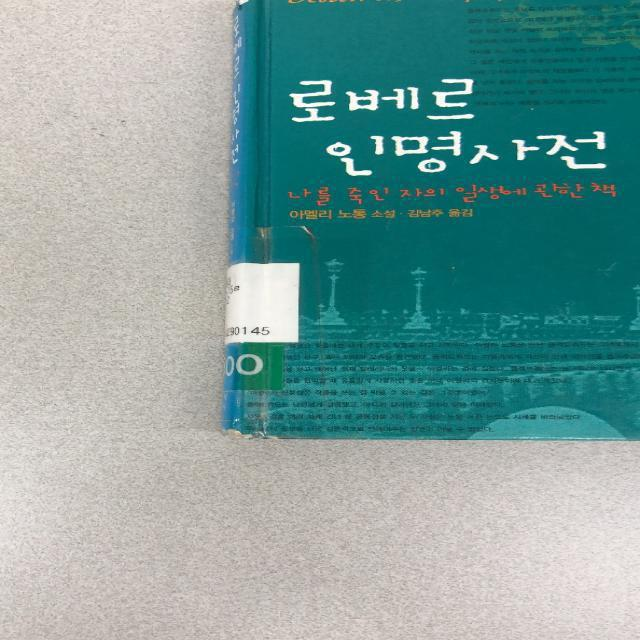Ripped: (215, 416, 285, 443)
Wornout: (228, 0, 254, 12)
